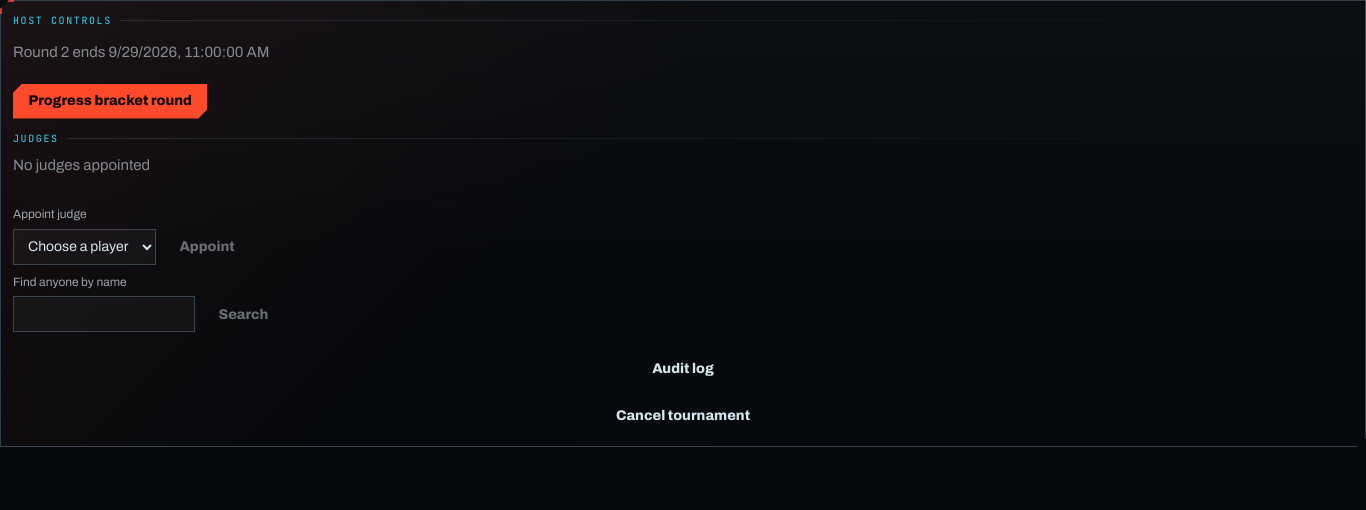
audit log › a failed read is shown
This screenshot has width=1366, height=510.
Click the button "Audit log". click: (683, 370)
box: [13,352,1353,387]
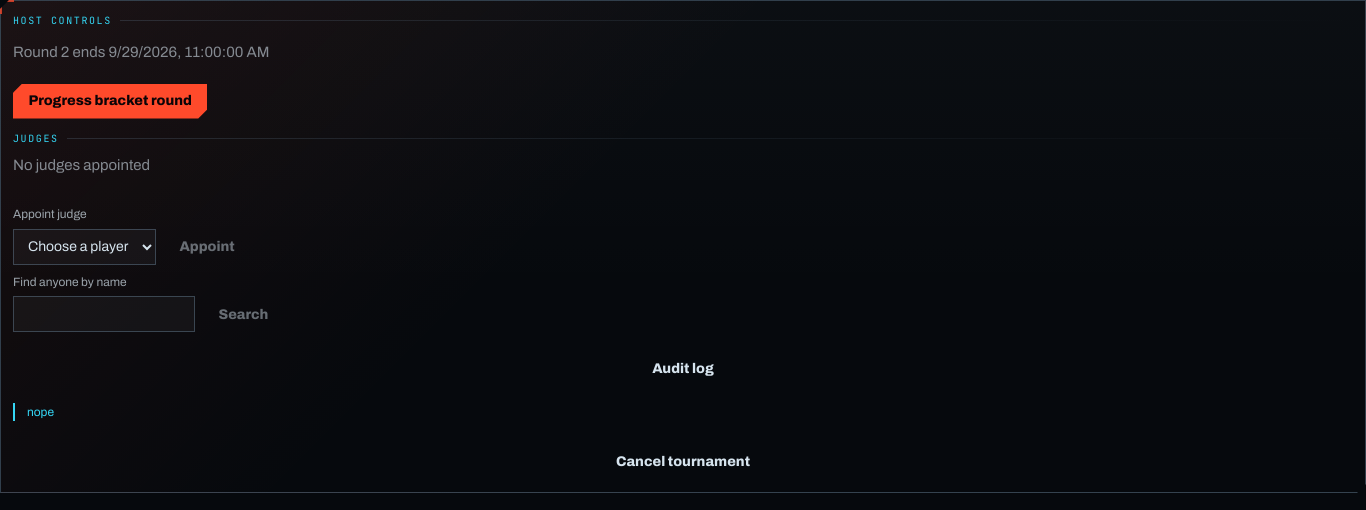
Now the message reads "nope", box [27,405,54,419]
